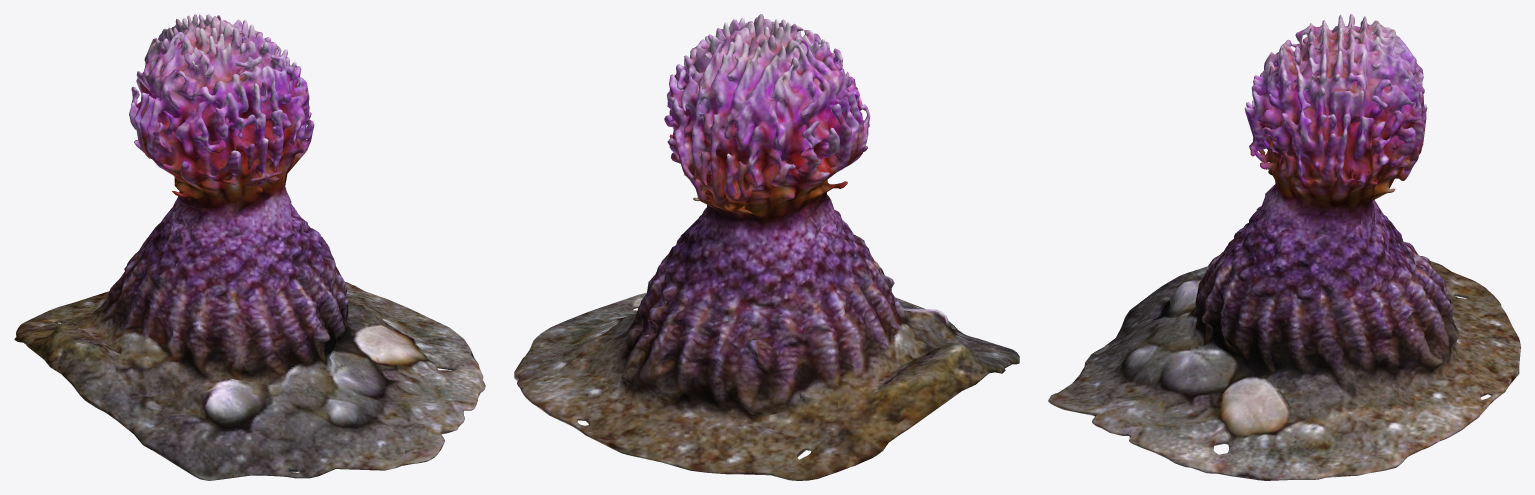
File: purple_sea_anemone_l.glb
3 renders of one model, left to right at view 1: azimuth 30°, elevation 25°; view 2: azimuth 150°, elevation 25°; view 3: azimuth 270°, elevation 25°, orthographic. The views are drawn at different scales.
Visible parts, largest first — view 1: Object_4; view 2: Object_4; view 3: Object_4.
Part boxes in pixels (box(x1,y1,x2,y2)): Object_4: box(14, 14, 485, 480); Object_4: box(514, 14, 1019, 480); Object_4: box(1048, 14, 1520, 480).
Bounding box in the file's own units: 1.47 × 1.24 × 1.51.
1 material, 1 textured.
